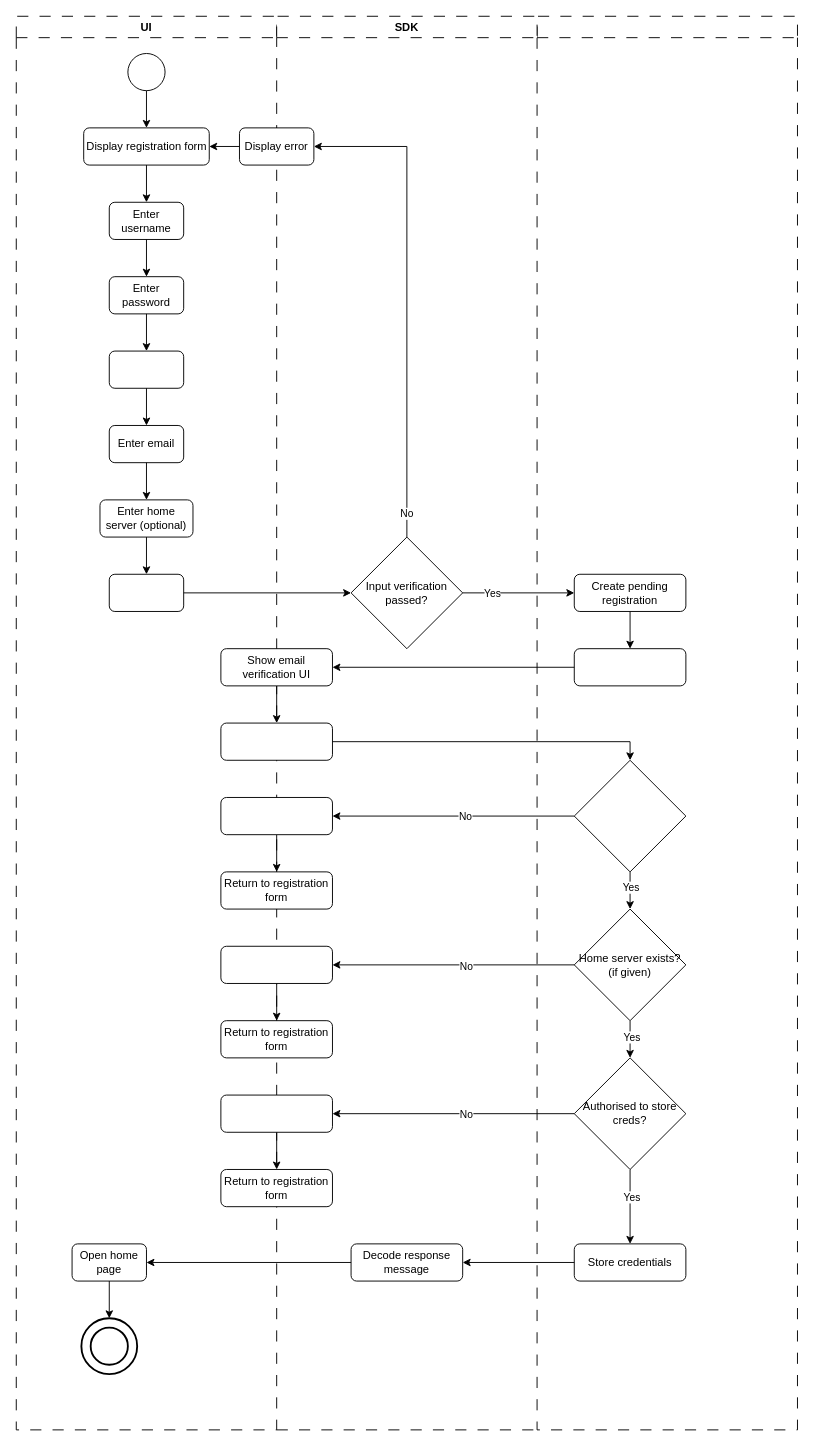
Image size: 814x1447. Some labels were removed from this diagram. Here are the shapes that lost their labels. From the top down, the box of each, then its label:
(108, 350, 184, 388): Confirm password
(108, 573, 184, 611): Press confirm
(573, 648, 686, 686): Send verification email
(220, 722, 332, 760): Enter verification code
(536, 15, 797, 1430): Backend
(220, 797, 332, 835): Display email verification error
(573, 759, 686, 872): Verification code matches?
(220, 945, 332, 983): Display home server error
(220, 1094, 332, 1132): Display authorisation error
